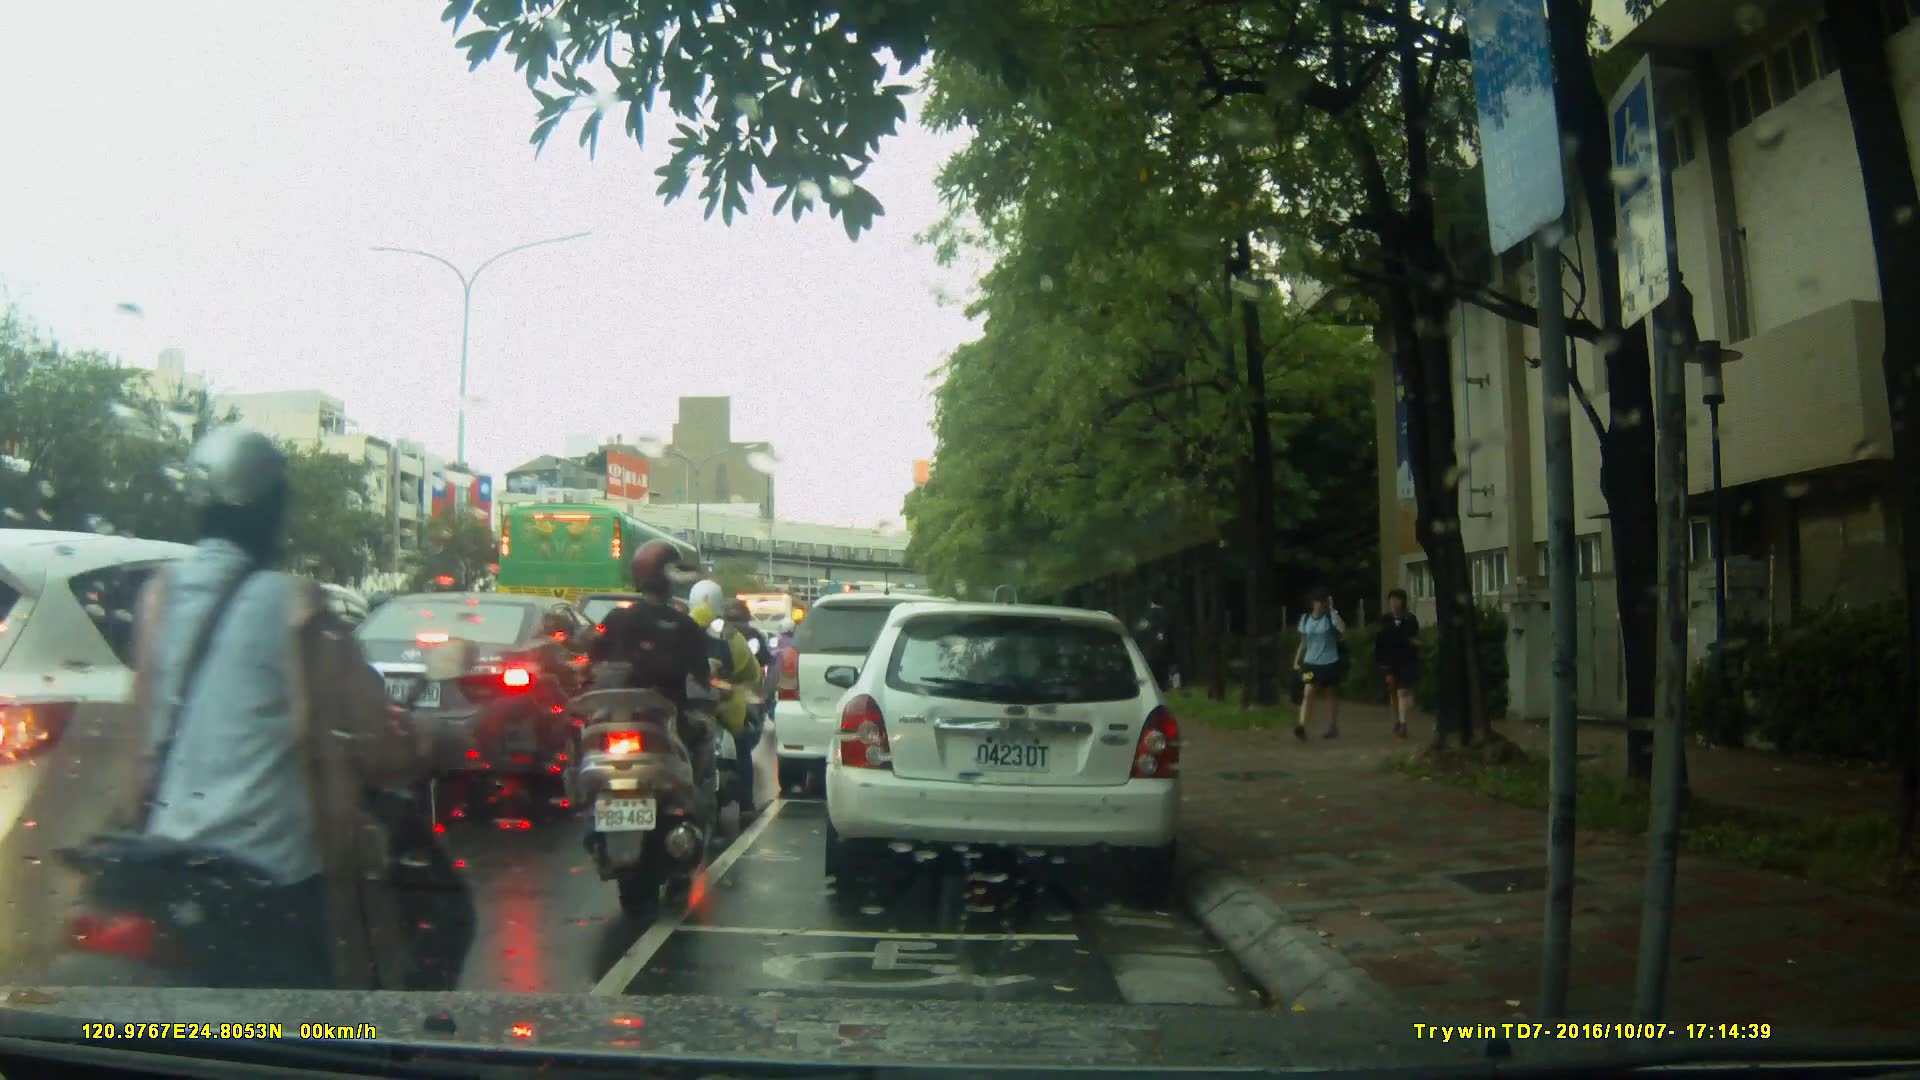pedestrian: (1282, 584, 1361, 747), (1374, 579, 1429, 746), (1131, 593, 1179, 743)
rider: (51, 421, 484, 1080), (576, 540, 717, 906), (675, 575, 763, 821), (762, 617, 812, 715)
vehicle: (1, 529, 445, 986), (831, 592, 1196, 897), (312, 590, 647, 807), (770, 592, 999, 801), (495, 502, 707, 638)
